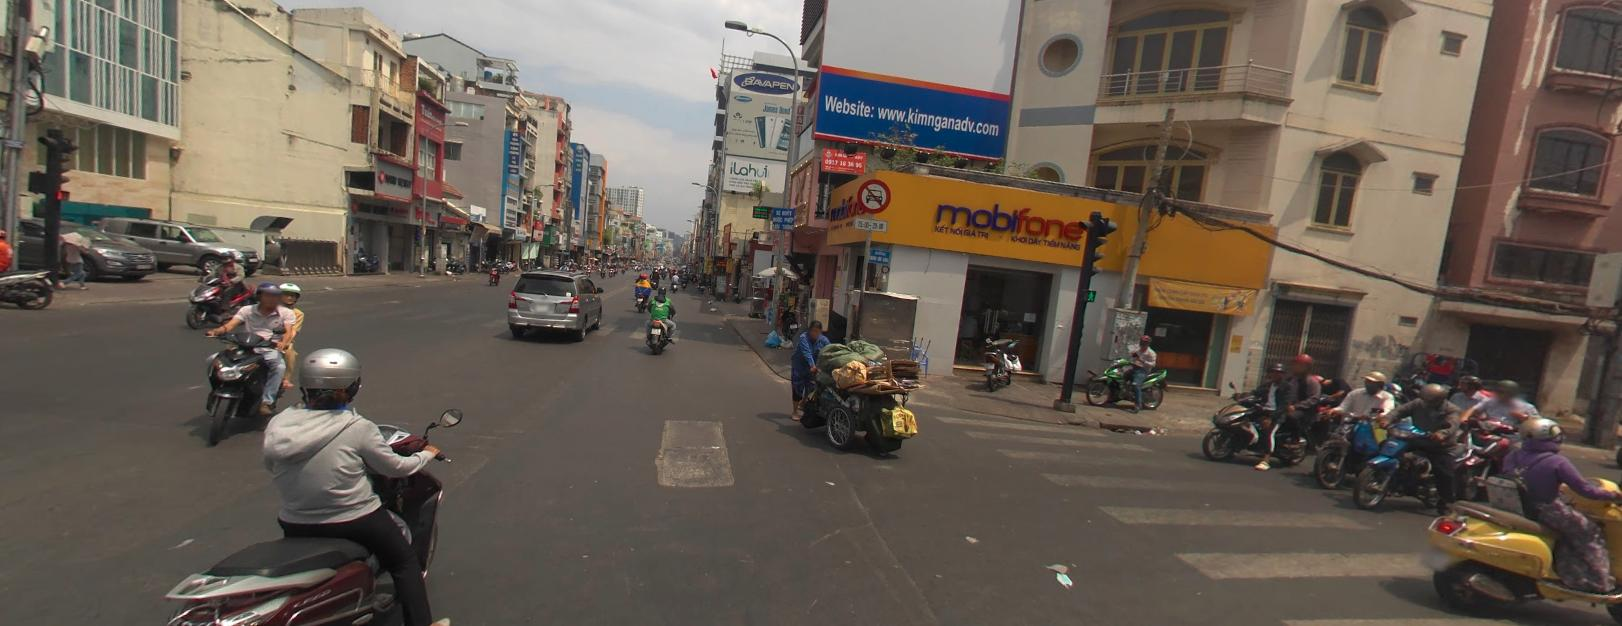Cam con lai: (857, 177, 891, 212)
